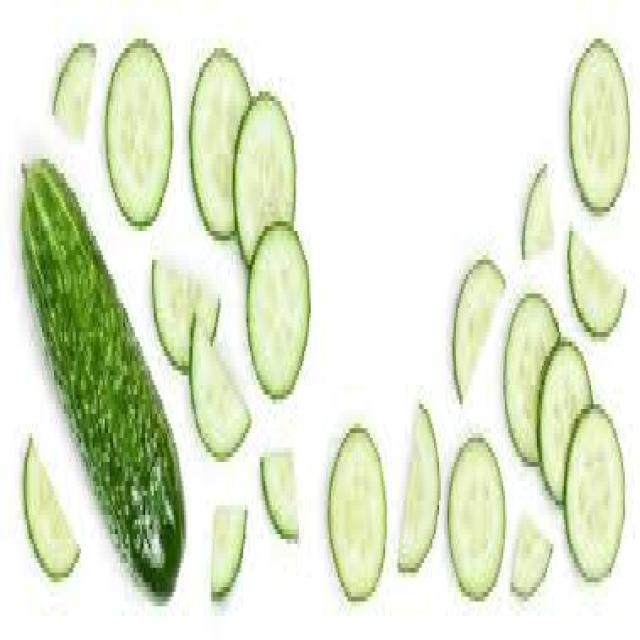Pickle: (24, 160, 184, 593), (108, 43, 171, 223), (190, 50, 250, 237), (565, 406, 624, 579), (249, 224, 309, 394), (235, 93, 295, 262), (570, 39, 629, 208), (329, 427, 386, 597), (504, 296, 559, 461), (449, 438, 505, 597), (191, 317, 250, 458), (539, 342, 591, 500), (25, 438, 80, 575), (452, 260, 505, 397), (399, 406, 440, 570), (569, 233, 623, 333), (153, 260, 191, 369), (54, 46, 94, 137), (261, 452, 298, 536), (211, 509, 246, 593), (511, 524, 552, 593), (525, 164, 554, 258)
